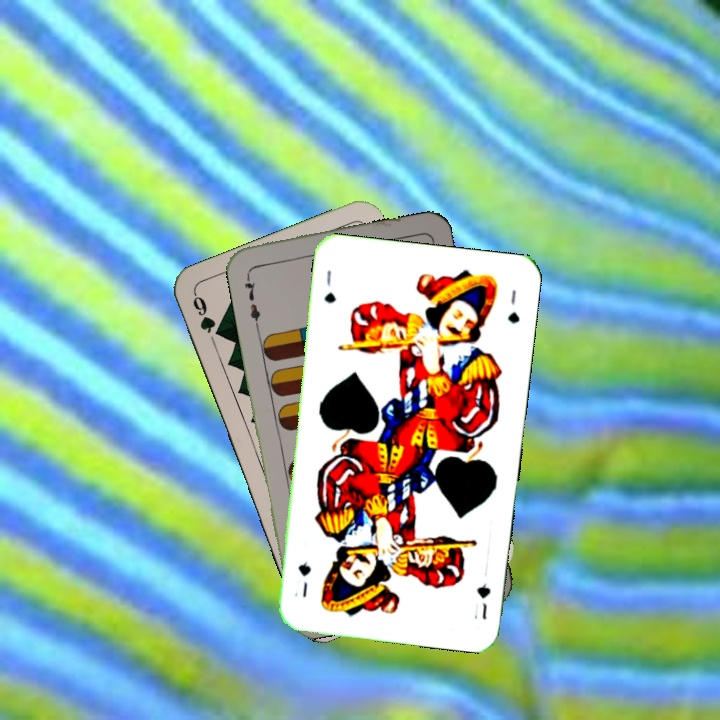E7: (240, 269, 264, 328)
G9: (188, 290, 218, 347)
GU: (470, 579, 493, 622), (320, 266, 338, 306)
